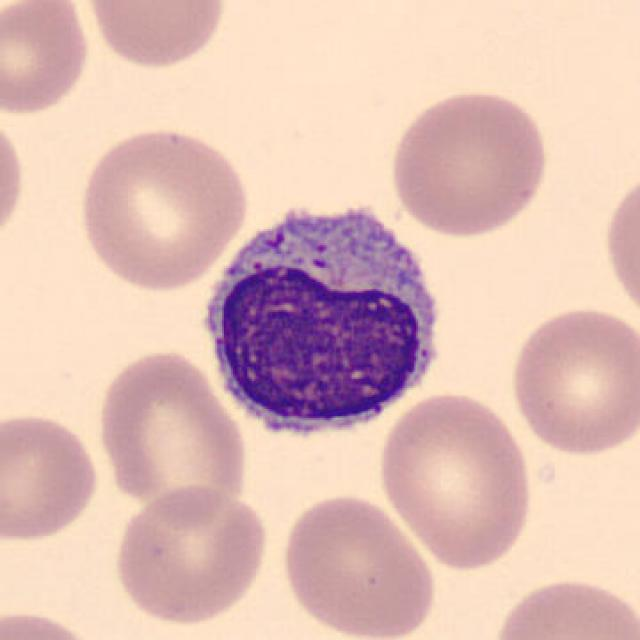Lymphocyte: (189, 185, 458, 455)
RBC: (373, 388, 539, 573), (73, 121, 252, 292), (92, 346, 250, 518), (384, 84, 553, 240), (277, 490, 439, 640), (108, 481, 272, 628), (505, 302, 638, 460), (0, 407, 103, 545), (0, 0, 94, 118), (80, 0, 231, 72), (487, 571, 638, 640), (599, 164, 640, 328), (0, 106, 30, 256), (0, 604, 106, 640)
